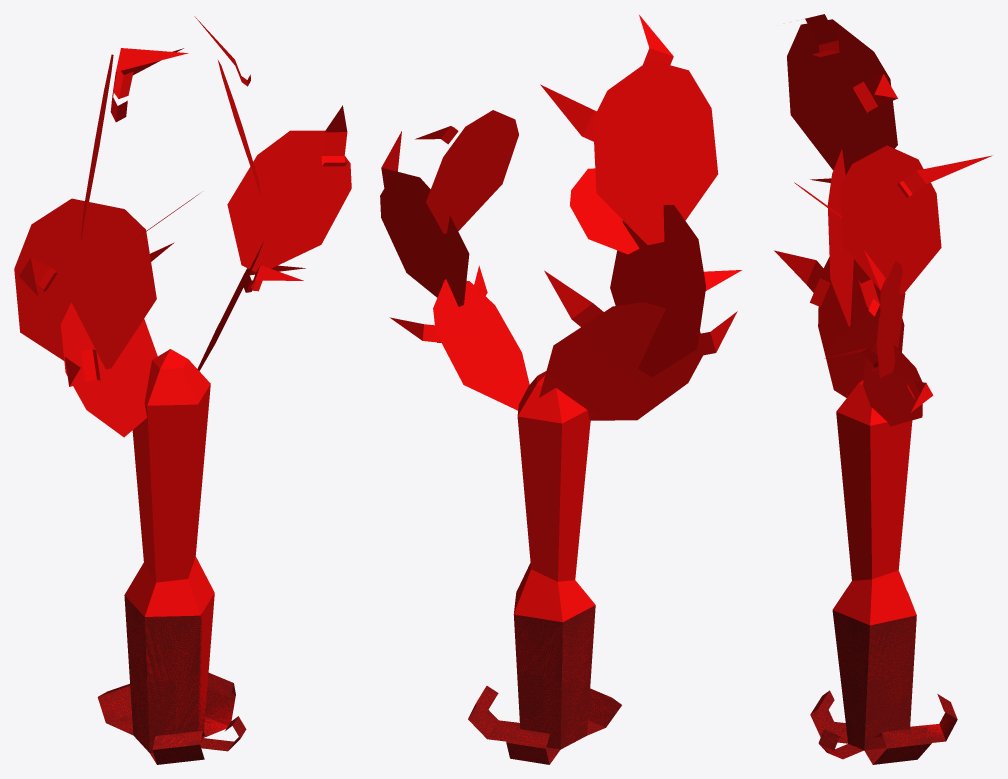
File: tree_2.FBX
The picture shows the model from 3 angles, left to right: view 1: azimuth 30°, elevation 25°; view 2: azimuth 150°, elevation 25°; view 3: azimuth 270°, elevation 25°; orthographic projection. The views are drawn at different scales.
Parts seen in each view (by area): view 1: cactus_color_1, cactus_color_2, cactus_inside, cactus_thorn; view 2: cactus_color_1, cactus_color_2, cactus_inside, cactus_thorn; view 3: cactus_color_1, cactus_color_2, cactus_inside, cactus_thorn.
Part boxes in pixels (bbox=[...]): cactus_color_1: bbox=[60, 54, 351, 763]; cactus_color_2: bbox=[14, 59, 263, 370]; cactus_inside: bbox=[97, 595, 246, 764]; cactus_thorn: bbox=[19, 16, 347, 386]; cactus_color_1: bbox=[380, 60, 718, 763]; cactus_color_2: bbox=[426, 110, 705, 410]; cactus_inside: bbox=[468, 605, 621, 764]; cactus_thorn: bbox=[381, 15, 741, 355]; cactus_color_1: bbox=[787, 19, 956, 763]; cactus_color_2: bbox=[827, 145, 941, 426]; cactus_inside: bbox=[810, 610, 957, 764]; cactus_thorn: bbox=[774, 14, 992, 412].
Bounding box in the file's own units: 5383 × 3151 × 10839.
